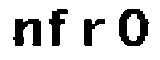0: (113, 2, 151, 53)
f: (48, 5, 71, 51)
n: (12, 17, 44, 49)
r: (78, 13, 109, 51)
